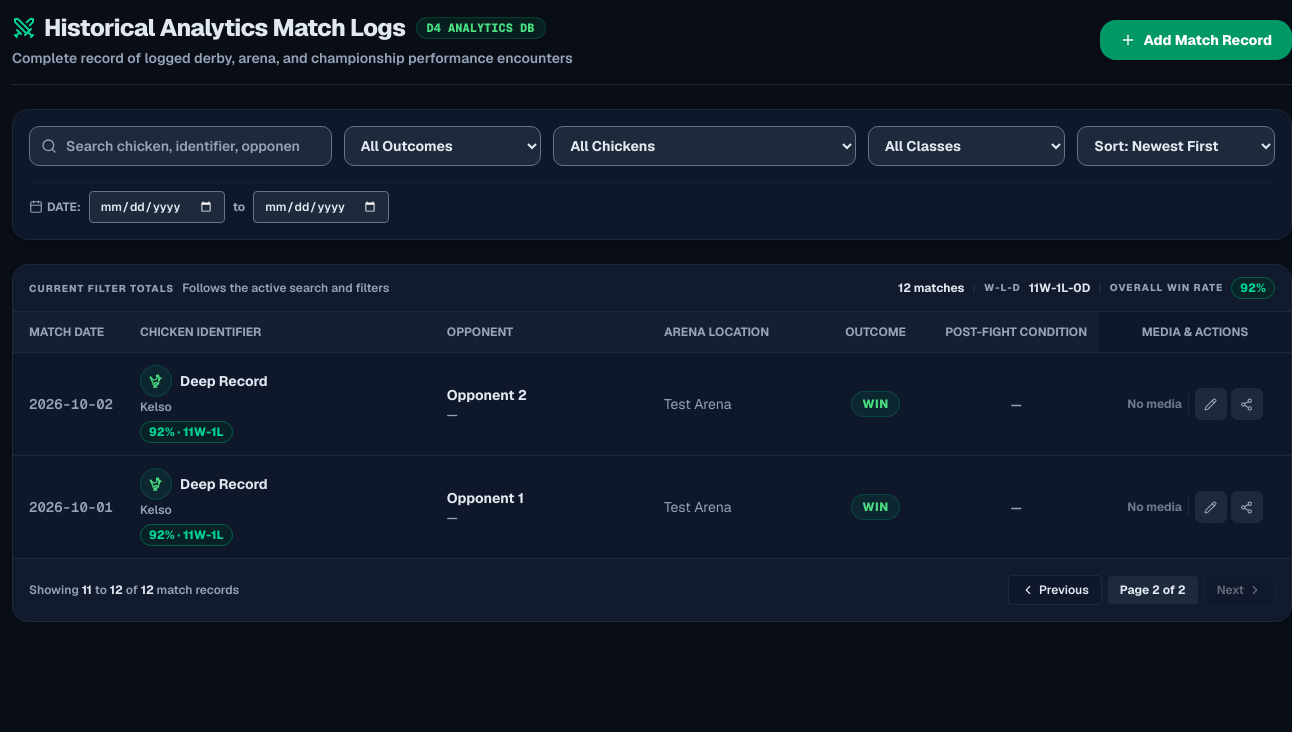
Test case: MatchLogsView › keeps the lifetime record on page 2 and summarizes the active filter
This screenshot has width=1292, height=732.
Expected: the number of elements with test id "match-record-99" is 2, [140, 421, 233, 443]; [140, 524, 233, 546]
Expected: the element with test id "match-record-99" below "2026-10-02" reads "92% · 11W-1L", [140, 421, 233, 443]
Note: The summary follows the filter while the chicken record stays lifetime.
Select "LOSS" in the dropdown named "Filter by outcome": (442, 146) [344, 126, 541, 166]
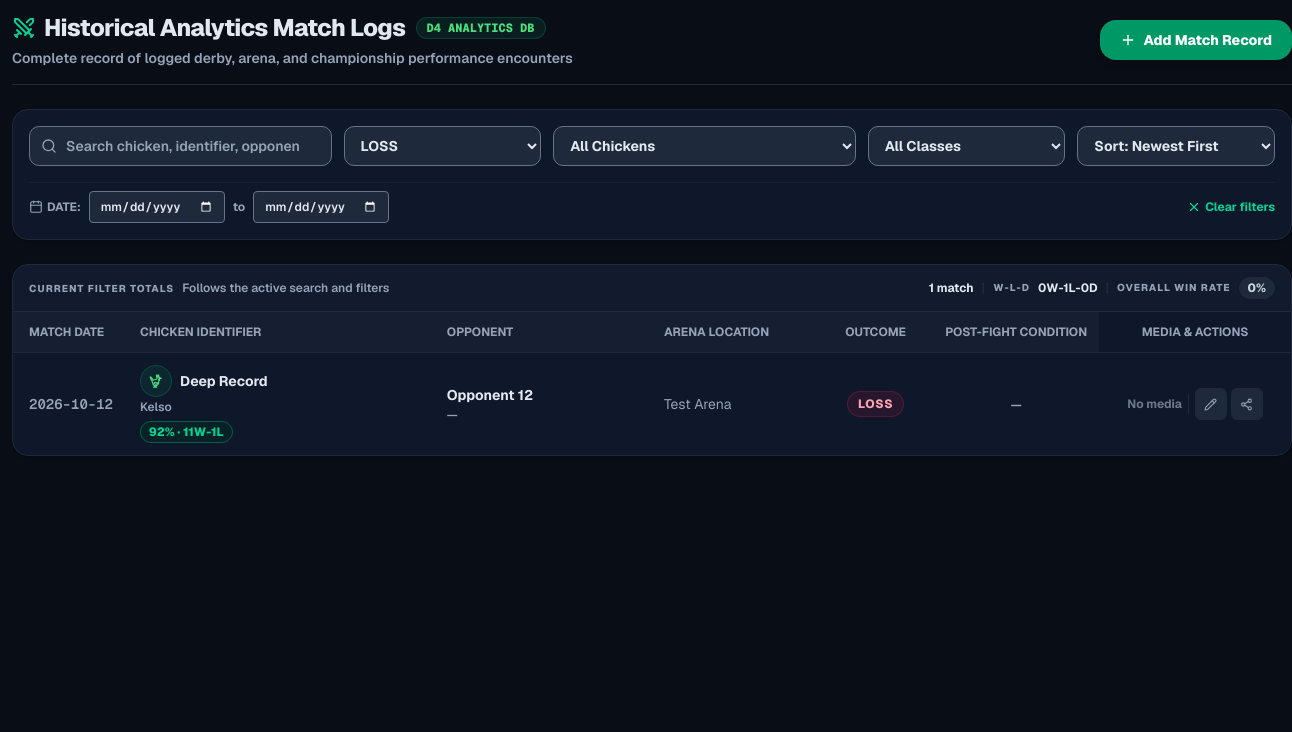
Expected: the text "1 match" is shown, [929, 280, 974, 296]
Expected: the text "0W-1L-0D" is shown, [1038, 280, 1098, 296]
Expected: the text "0%" is shown, [1239, 277, 1275, 299]
